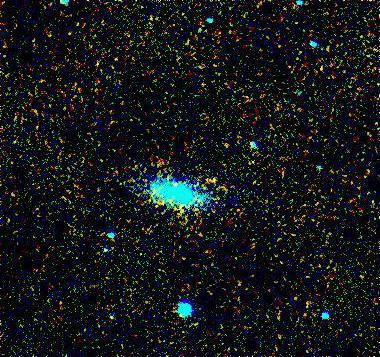star: (196, 170, 226, 200)
